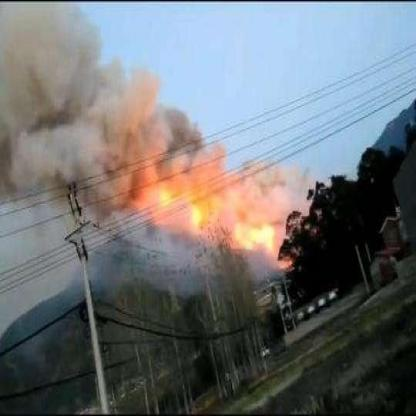fire: (144, 160, 306, 269)
smoke: (2, 6, 146, 205)
